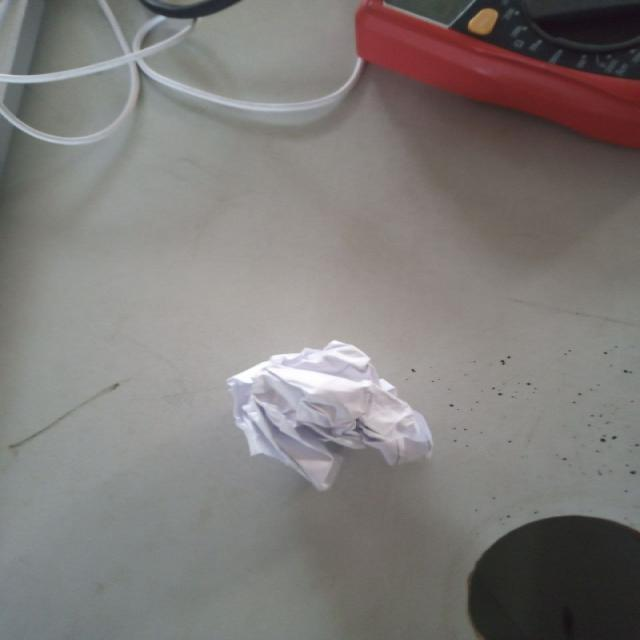Paper: (227, 341, 435, 494)
